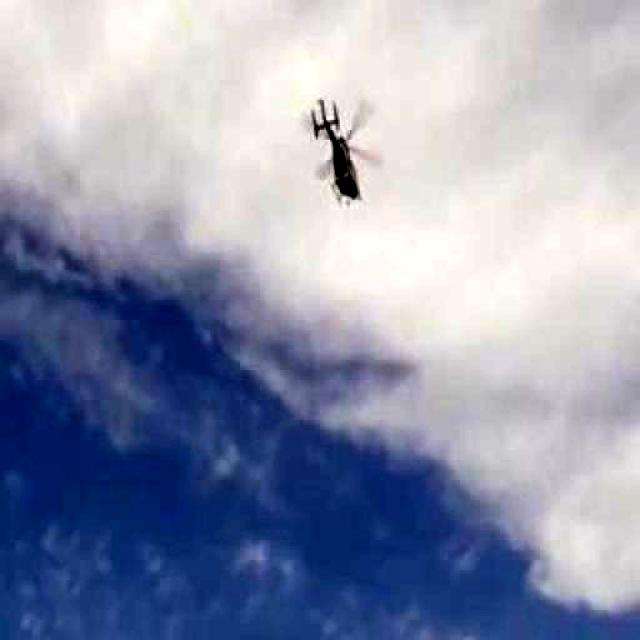drone: (281, 80, 408, 222)
